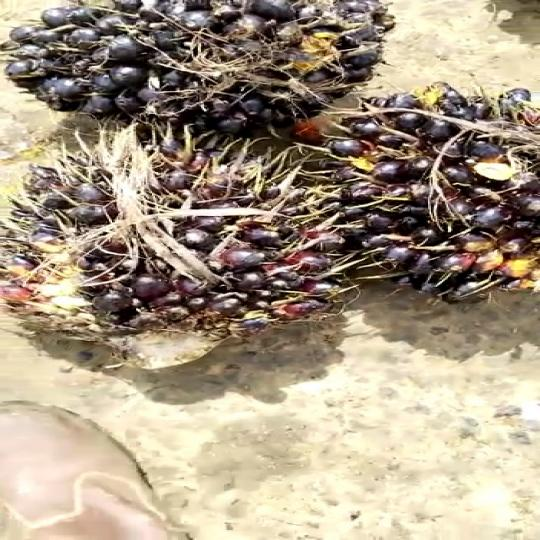mentah: (0, 127, 341, 352), (307, 77, 535, 313), (0, 0, 385, 132)
